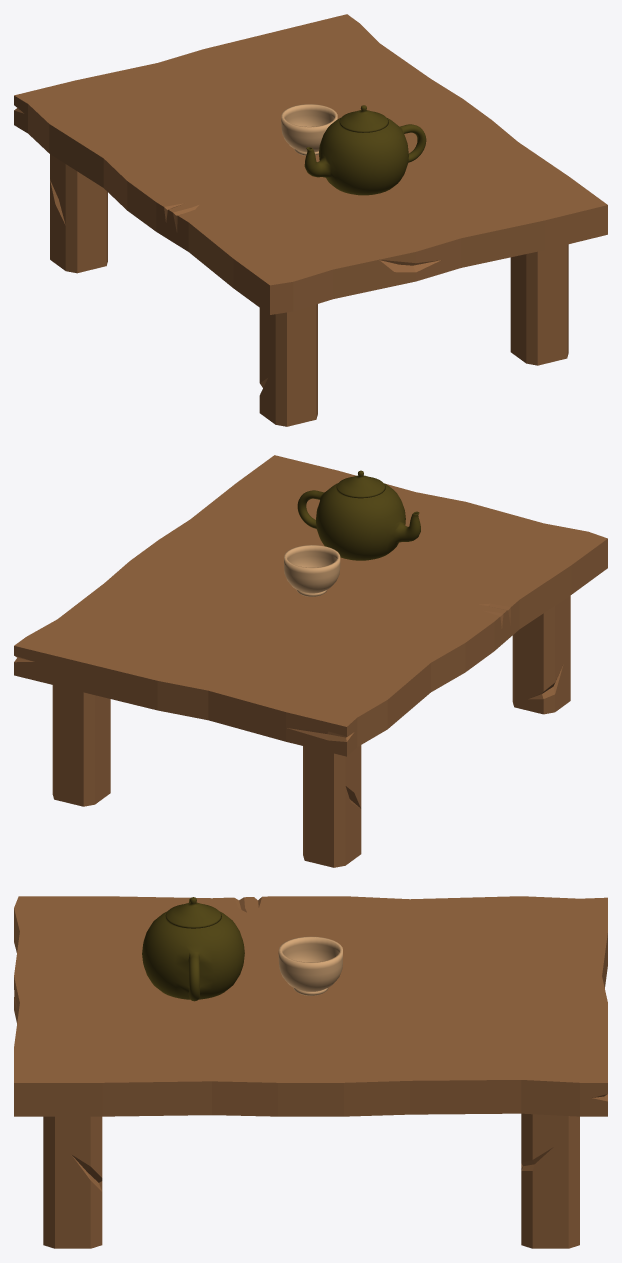
Rendered from TeaPlaceHolderSet.fbx.
3 views of the same model, one above another, from view 1: azimuth 30°, elevation 25°; view 2: azimuth 150°, elevation 25°; view 3: azimuth 270°, elevation 25° (orthographic). The views are drawn at different scales.
Visible parts, largest first — view 1: Cube, TeatPot, Cup; view 2: Cube, TeatPot, Cup; view 3: Cube, TeatPot, Cup.
Part boxes in pixels (x1,y1,x2,y2): Cube: (14,14,607,426); TeatPot: (304,105,426,195); Cup: (281,104,337,155); Cube: (14,455,607,867); TeatPot: (297,470,420,560); Cup: (284,545,340,596); Cube: (14,896,607,1248); TeatPot: (142,897,244,1001); Cup: (278,936,342,995).
Bounding box in the file's own units: 451 × 305 × 607.
